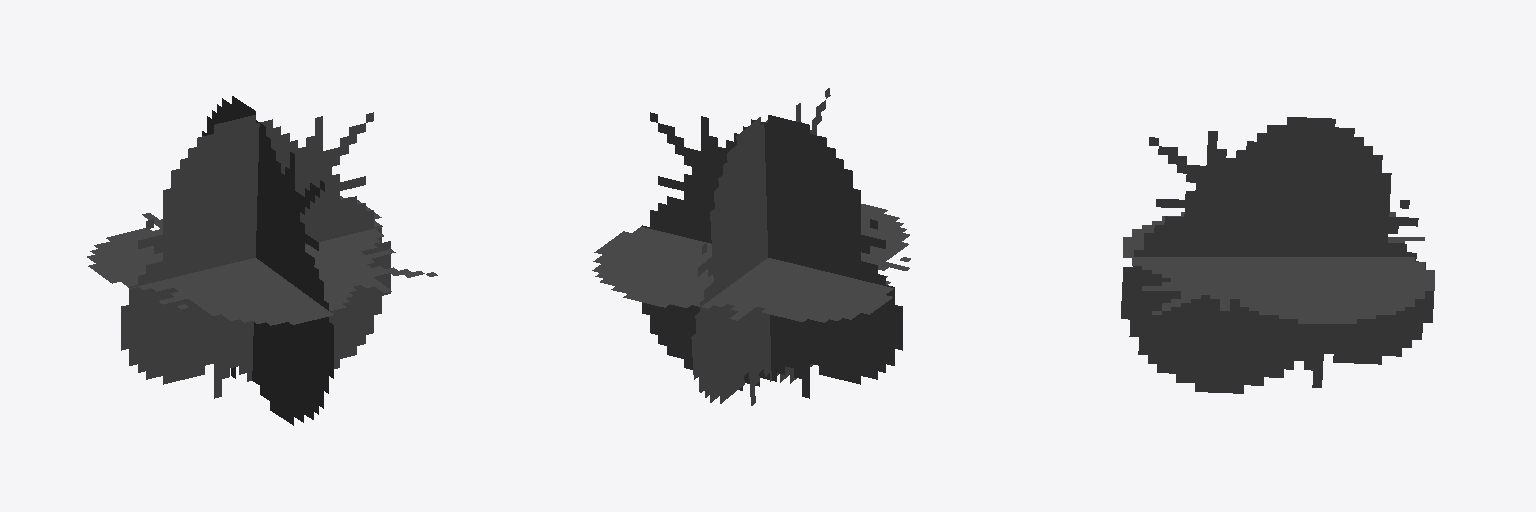
3 views of the same model, side by side, from view 1: azimuth 30°, elevation 25°; view 2: azimuth 150°, elevation 25°; view 3: azimuth 270°, elevation 25° (orthographic).
Parts seen in each view (by area): view 1: Plane; view 2: Plane; view 3: Plane.
Boxes of the visible parts, x1,y1,x2,y2 form: Plane: [87, 96, 437, 425]; Plane: [592, 88, 910, 405]; Plane: [1121, 117, 1434, 393].
Size of the model in its own units: 2 by 2.09 by 2.09.
1 materials, 1 textured.